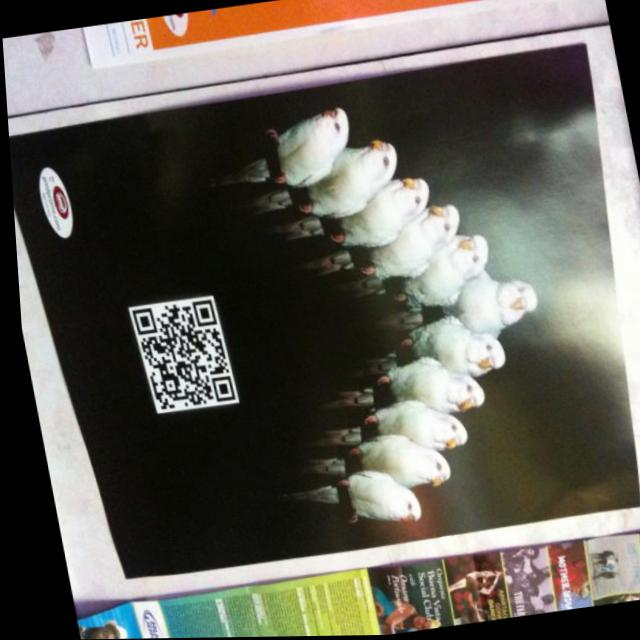qrcode: (127, 299, 230, 411)
